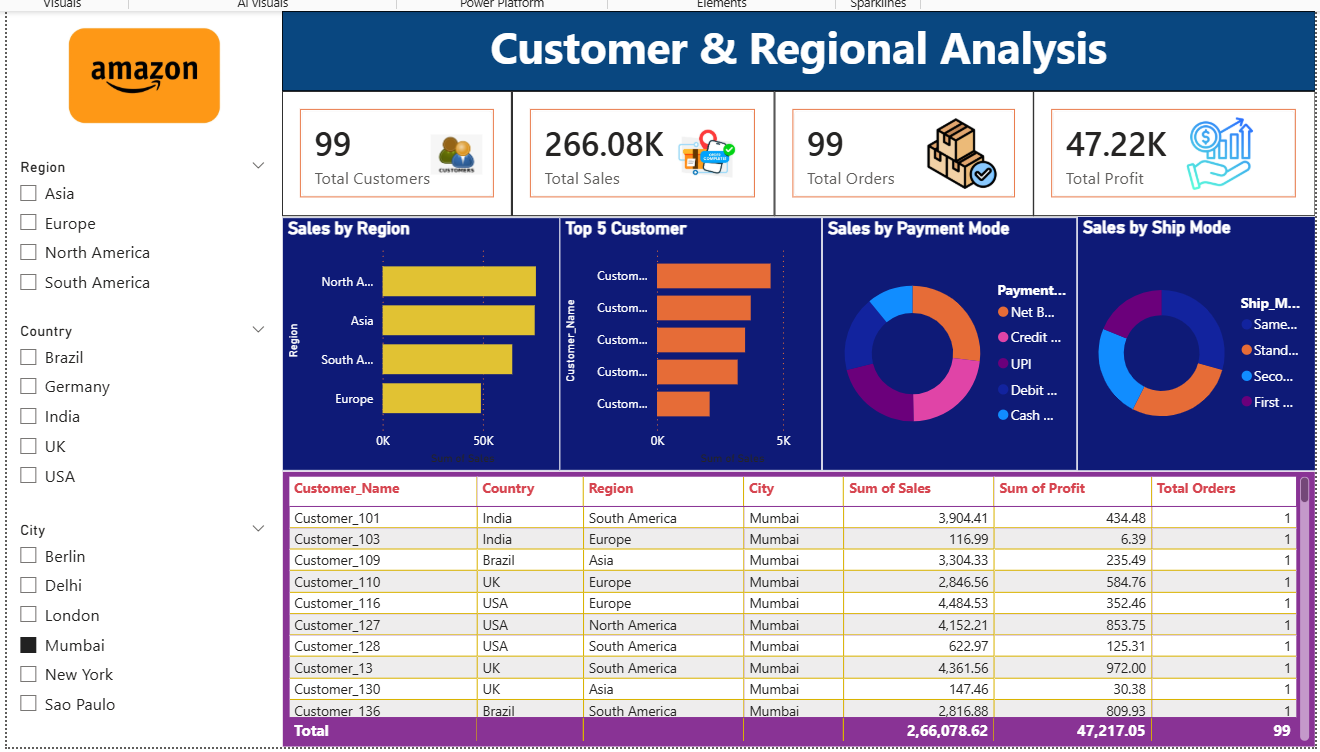

This screenshot's page, from the dashboard's own definition file:
{"tool":"powerbi","page":{"name":"Page 3","canvas":[1280,720],"ordinal":2},"visuals":[{"type":"textbox","box":[269,0,1000.3,78.2],"z":0},{"type":"cardVisual","fields":{"Data":["Amazon_Sales_Data.Total Customers"]},"box":[269,78.2,225,122.1],"z":1000},{"type":"cardVisual","fields":{"Data":["Amazon_Sales_Data.Total Orders"]},"box":[750.6,78.2,253.9,122.1],"z":2000},{"type":"cardVisual","fields":{"Data":["Amazon_Sales_Data.Total Profit"]},"box":[1004.5,78.2,264.8,122.1],"z":3000},{"type":"cardVisual","fields":{"Data":["Amazon_Sales_Data.Total Sales"]},"box":[494,78.2,256.6,122.1],"z":4000},{"type":"slicer","fields":{"Values":["Amazon_Sales_Data.Region"]},"box":[0,140,264.8,159.2],"z":5000},{"type":"clusteredBarChart","fields":{"Category":["Amazon_Sales_Data.Region"],"Y":["Sum(Amazon_Sales_Data.Sales)"]},"box":[269,201.7,271.7,248.4],"z":6000},{"type":"clusteredBarChart","title":"Top 5 Customer","fields":{"Category":["Amazon_Sales_Data.Customer_Name"],"Y":["Sum(Amazon_Sales_Data.Sales)"]},"box":[540.7,201.7,256.6,248.4],"z":7000},{"type":"donutChart","fields":{"Category":["Amazon_Sales_Data.Payment_Mode"],"Y":["Sum(Amazon_Sales_Data.Sales)"]},"box":[797.3,201.7,249.7,248.4],"z":8000},{"type":"donutChart","fields":{"Category":["Amazon_Sales_Data.Ship_Mode"],"Y":["Sum(Amazon_Sales_Data.Sales)"]},"box":[1047,200.3,233.3,249.7],"z":9000},{"type":"tableEx","fields":{"Values":["Amazon_Sales_Data.Customer_Name","Amazon_Sales_Data.Country","Amazon_Sales_Data.Region","Amazon_Sales_Data.City","Sum(Amazon_Sales_Data.Sales)","Sum(Amazon_Sales_Data.Profit)","Amazon_Sales_Data.Total Orders"]},"box":[269,450.1,1011.3,270.3],"z":10000},{"type":"image","box":[0,0,269,126.2],"z":10001}]}

Visuals, with their boxes in screenshot pixels (x1, y1, x2, y2):
textbox: locate(280, 10, 1298, 90)
cardVisual - Amazon_Sales_Data.Total Customers: locate(280, 90, 509, 214)
cardVisual - Amazon_Sales_Data.Total Orders: locate(770, 90, 1028, 214)
cardVisual - Amazon_Sales_Data.Total Profit: locate(1028, 90, 1298, 214)
cardVisual - Amazon_Sales_Data.Total Sales: locate(509, 90, 770, 214)
slicer - Amazon_Sales_Data.Region: locate(7, 153, 276, 315)
clusteredBarChart - Amazon_Sales_Data.Region x Sum(Amazon_Sales_Data.Sales): locate(280, 215, 557, 468)
"Top 5 Customer" clusteredBarChart: locate(557, 215, 818, 468)
donutChart - Amazon_Sales_Data.Payment_Mode x Sum(Amazon_Sales_Data.Sales): locate(818, 215, 1072, 468)
donutChart - Amazon_Sales_Data.Ship_Mode x Sum(Amazon_Sales_Data.Sales): locate(1072, 214, 1309, 468)
tableEx - Amazon_Sales_Data.Customer_Name x Amazon_Sales_Data.Country: locate(280, 468, 1309, 743)
image: locate(7, 10, 280, 139)
